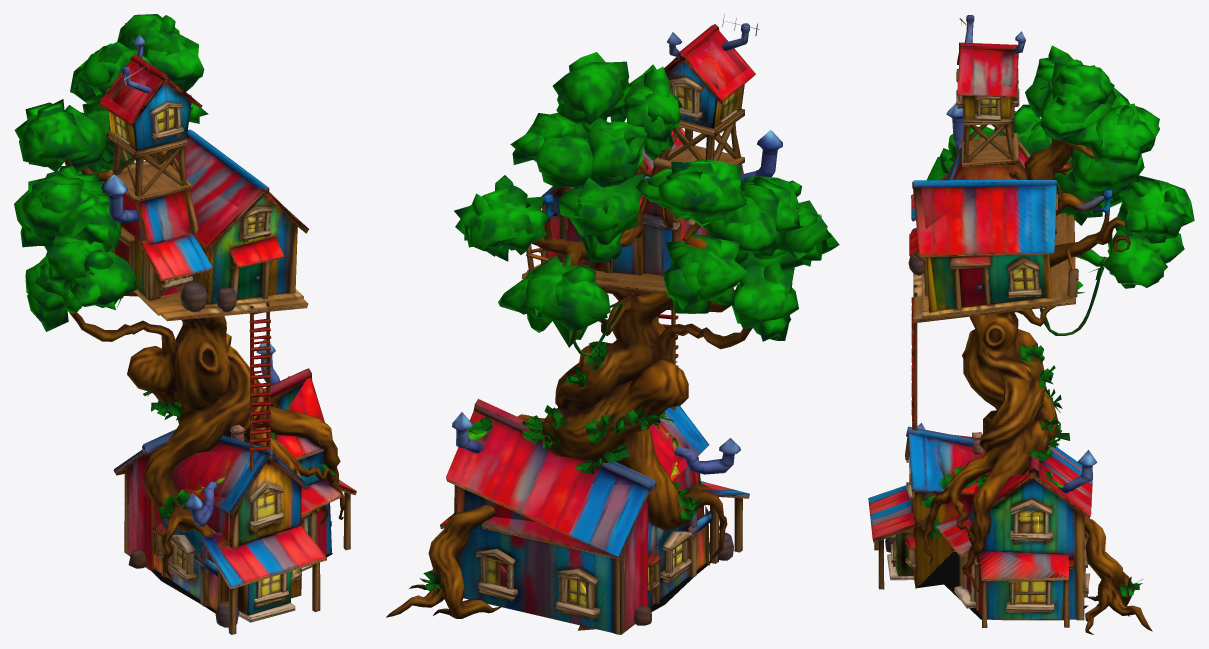
Rendered from StoreHouse.glb.
The picture shows the model from 3 angles, left to right: view 1: azimuth 30°, elevation 25°; view 2: azimuth 150°, elevation 25°; view 3: azimuth 270°, elevation 25°; orthographic projection. The views are drawn at different scales.
Visible parts, largest first — view 1: geometry_0; view 2: geometry_0; view 3: geometry_0.
Part boxes in pixels (x1,y1,x2,y2): geometry_0: [14, 14, 356, 634]; geometry_0: [386, 14, 839, 634]; geometry_0: [868, 15, 1194, 634].
Bounding box in the file's own units: 75.16 × 120 × 69.38.
Materials: 1 (1 with a texture image).
